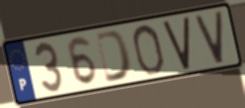3: (34, 40, 64, 95)
6: (66, 34, 99, 87)
D: (94, 28, 133, 85)
O: (130, 22, 166, 77)
V: (193, 9, 226, 66), (161, 14, 191, 72)
